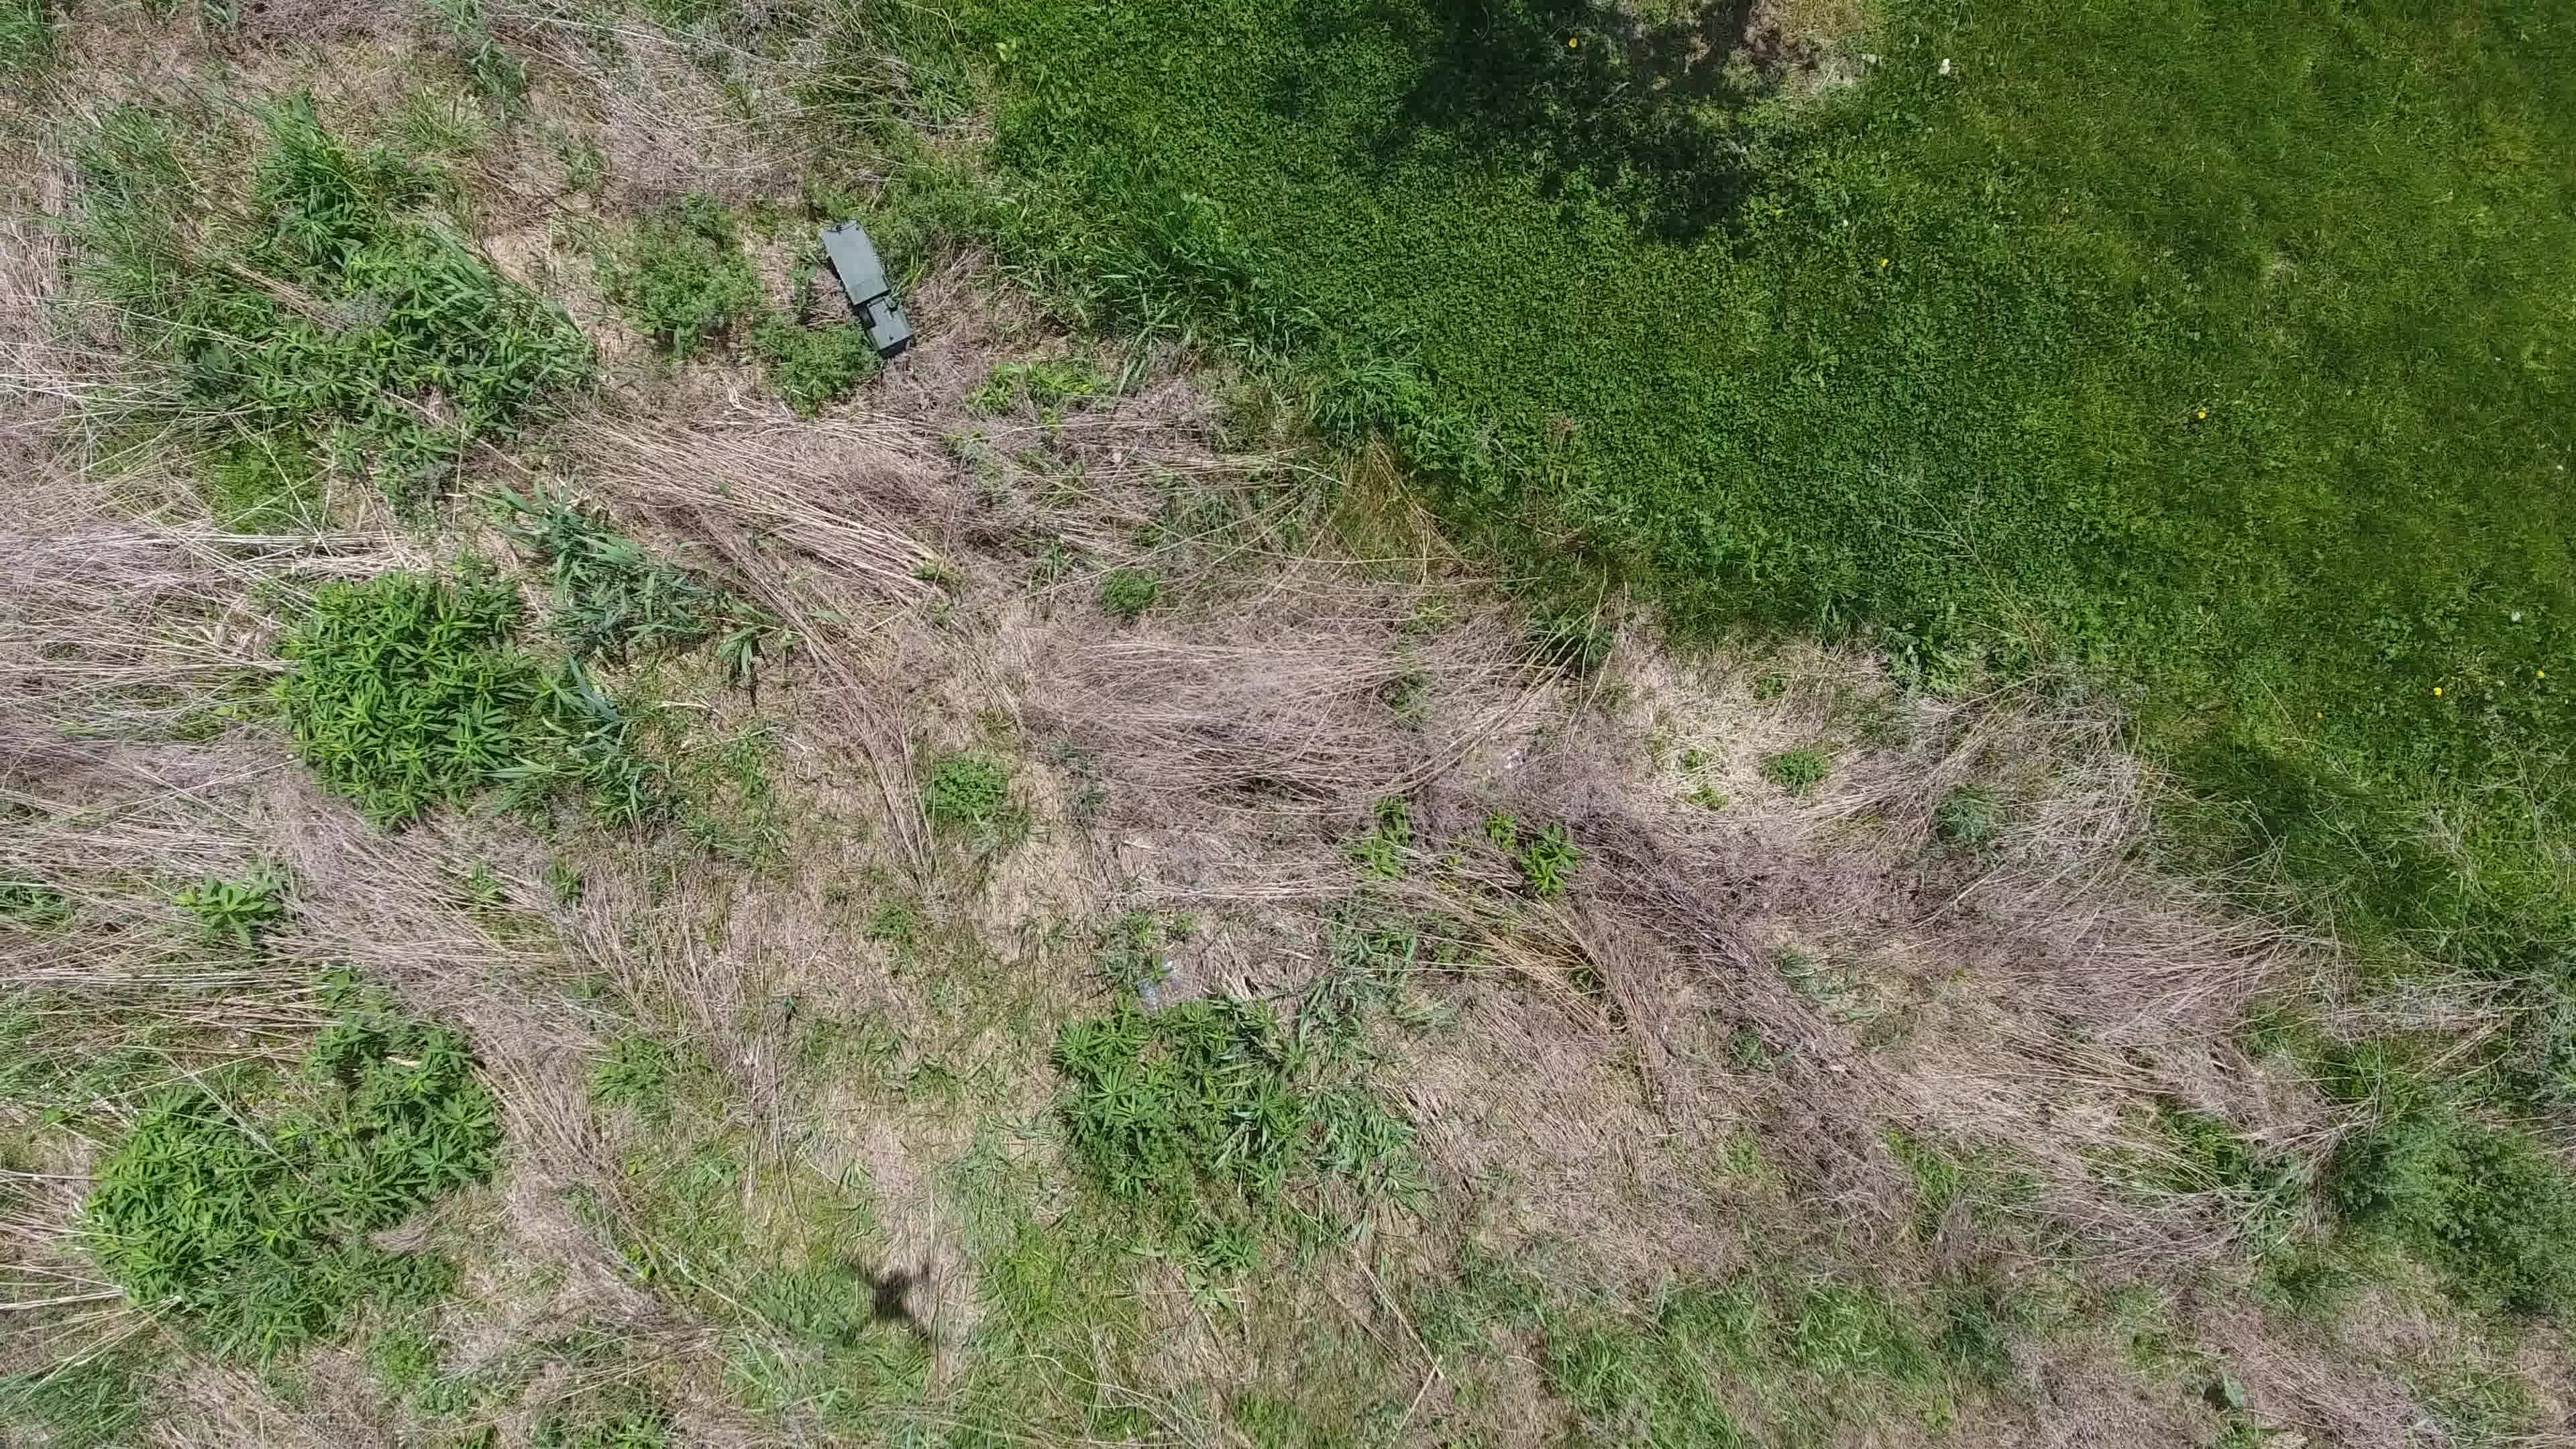transporter9: (816, 216, 920, 363)
